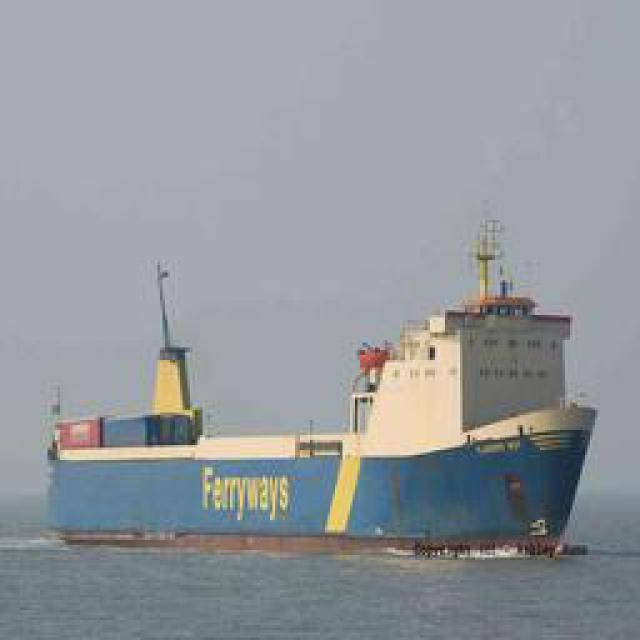Ship: (34, 206, 604, 554)
